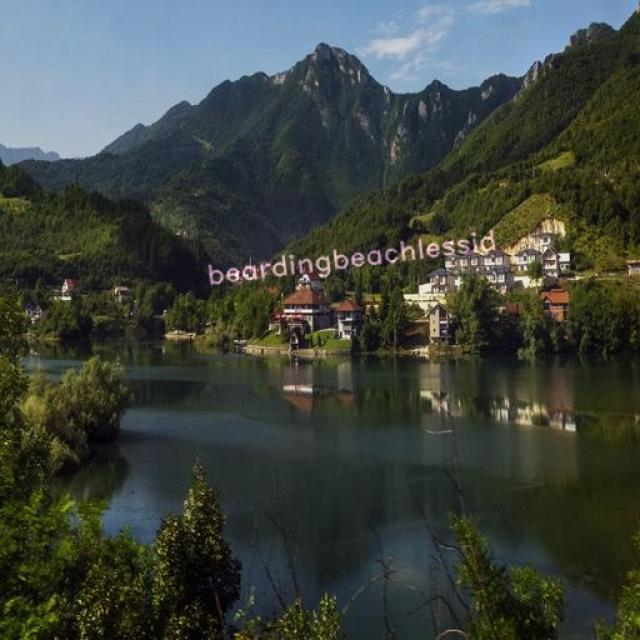watermark: (200, 227, 497, 288)
